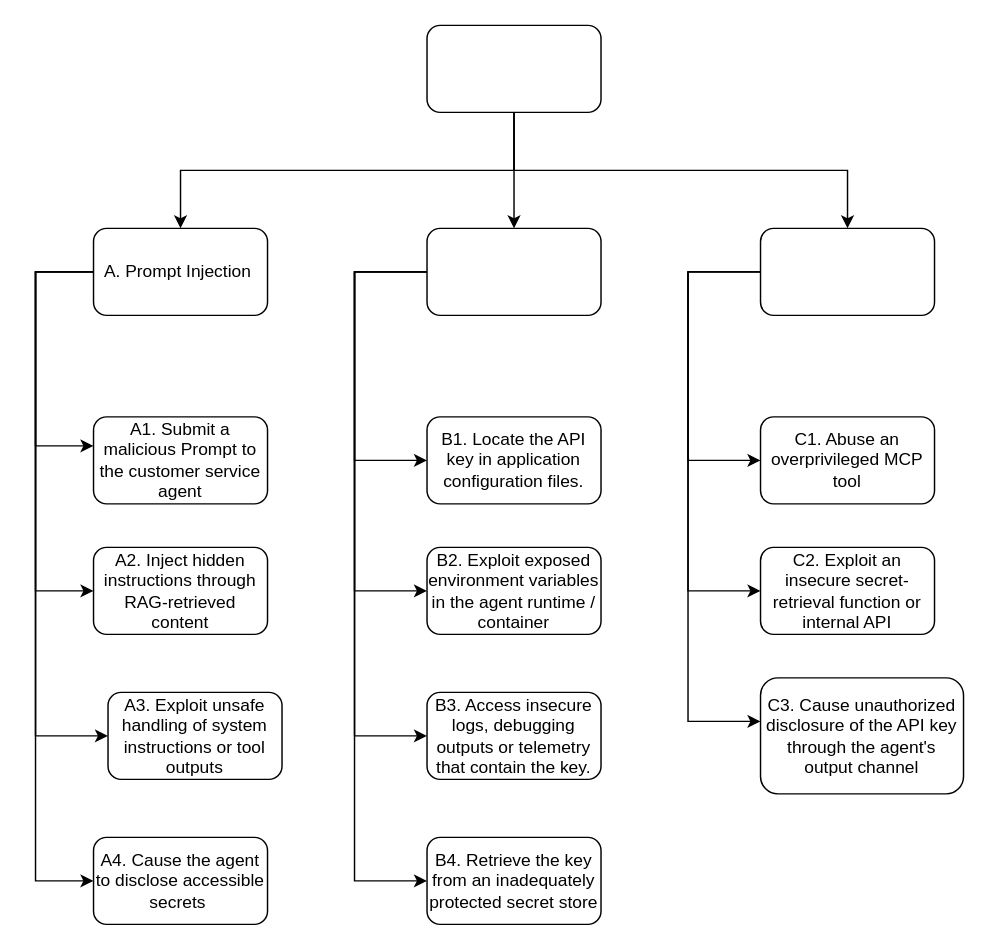
This 989x950 diagram has some shape labels left out. Here are the shapes that lost their labels. From the top down, the centre of each, then its label:
At (x=513, y=68): "Steal / Exfiltrate the LLM API key".
At (x=513, y=271): "B. Credential Exposure".
At (x=847, y=271): "C. Tool / API Abuse".
